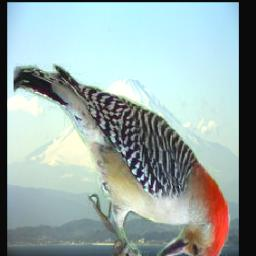Woodpecker: (14, 59, 232, 256)
